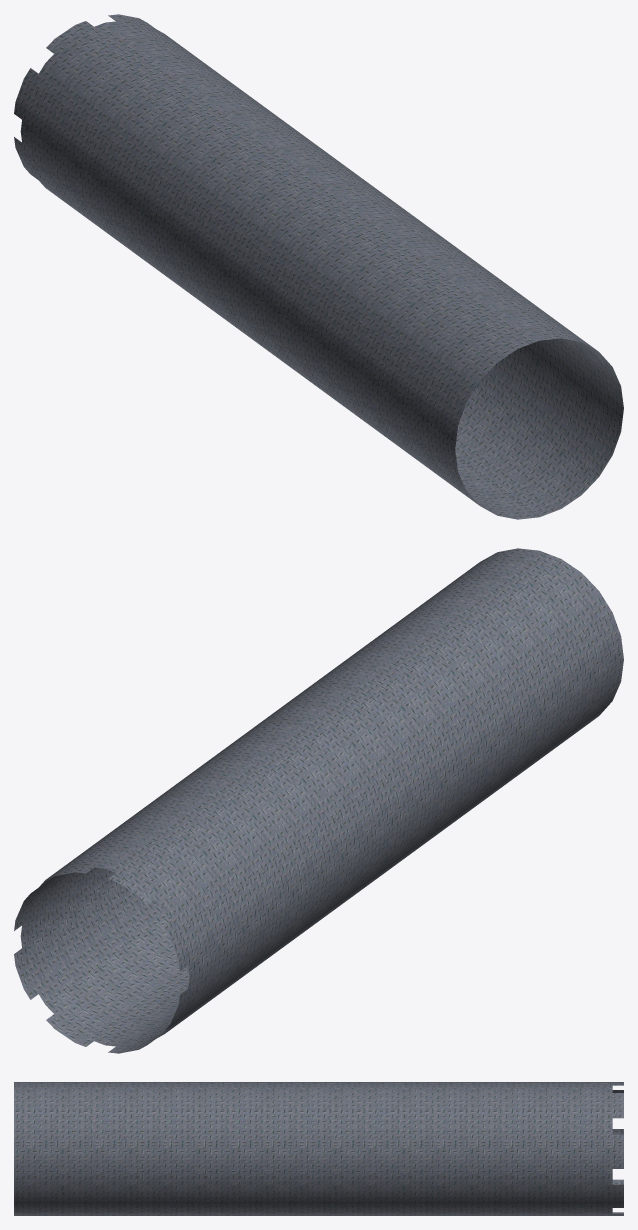
The model's file is 干磨机滚筒.glb.
3 views of the same model, one above another, from view 1: azimuth 30°, elevation 25°; view 2: azimuth 150°, elevation 25°; view 3: azimuth 270°, elevation 25° (orthographic). The views are drawn at different scales.
Visible parts, largest first — view 1: root; view 2: root; view 3: root.
Boxes of the visible parts, bbox=[...] form: root: bbox=[14, 14, 623, 519]; root: bbox=[14, 548, 623, 1053]; root: bbox=[14, 1082, 623, 1215].
Bounding box in the file's own units: 1.2 × 1.2 × 5.45.
Materials: 1 (1 with a texture image).
